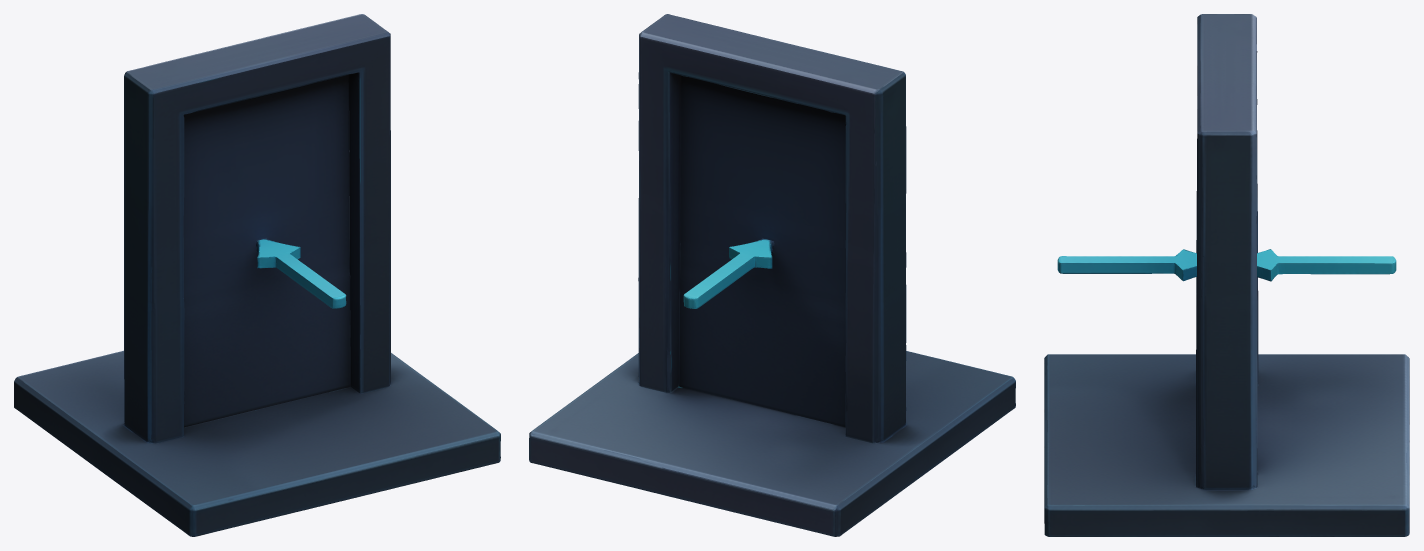
The model's file is porta-3d-2.glb.
3 renders of one model, left to right at view 1: azimuth 30°, elevation 25°; view 2: azimuth 150°, elevation 25°; view 3: azimuth 270°, elevation 25°, orthographic.
Parts seen in each view (by area): view 1: world; view 2: world; view 3: world.
Part boxes in pixels (<box>): world: <box>14,14,500,536</box>; world: <box>529,14,1015,536</box>; world: <box>1044,14,1409,536</box>.
Bounding box in the file's own units: 0.853 × 1 × 0.8552.
1 material, 1 textured.
